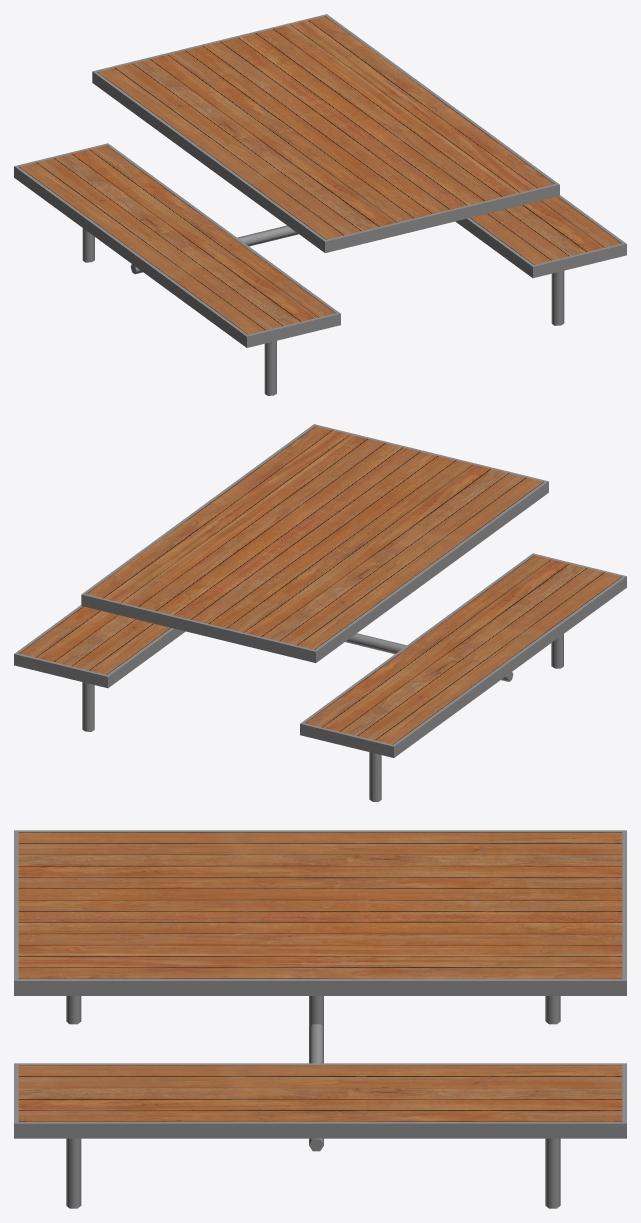
File: ext_table_a_001.FBX
The picture shows the model from 3 angles, top to bottom: view 1: azimuth 30°, elevation 25°; view 2: azimuth 150°, elevation 25°; view 3: azimuth 270°, elevation 25°; orthographic projection. The views are drawn at different scales.
Parts seen in each view (by area): view 1: ext_table_a_001; view 2: ext_table_a_001; view 3: ext_table_a_001.
Boxes of the visible parts, x1,y1,x2,y2 form: ext_table_a_001: (14,14,626,395); ext_table_a_001: (14,424,626,801); ext_table_a_001: (14,830,626,1208).
Bounding box in the file's own units: 197 × 79.45 × 209.
